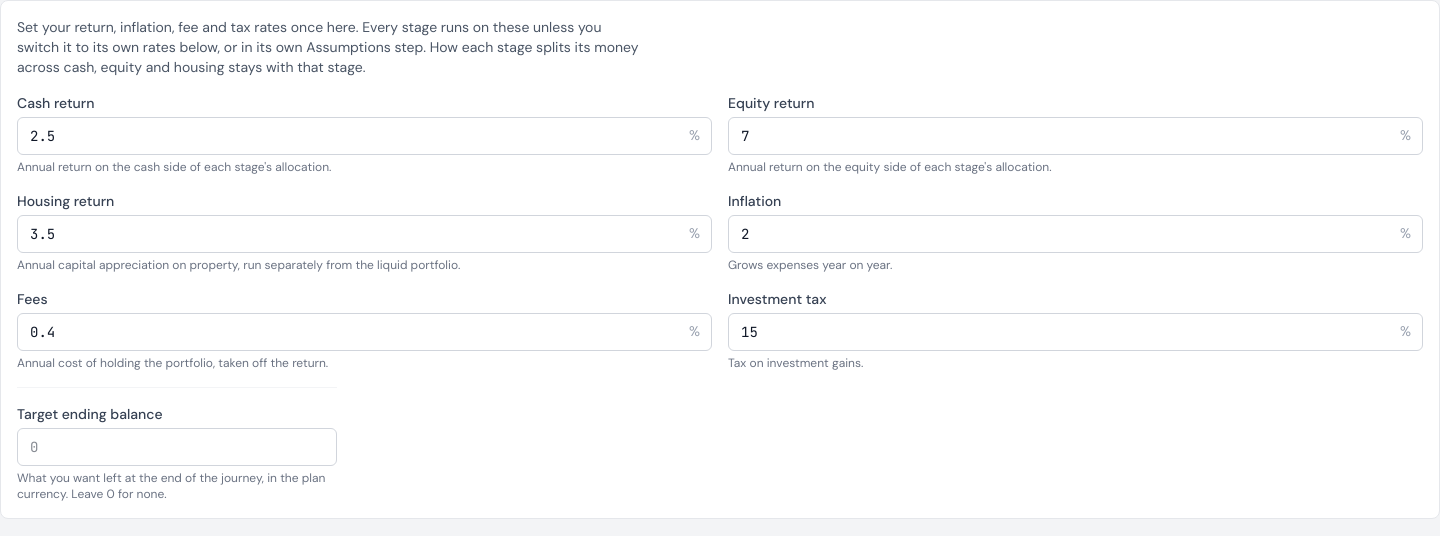
JourneyAssumptionsSection › target ending balance › shows an error and saves nothing for a negative amount
The width and height of the screenshot is (1440, 536).
In the number field labelled "Target ending balance": (177, 447) left=17, top=428, right=337, bottom=466, type "-5"
Wait 1000 ms
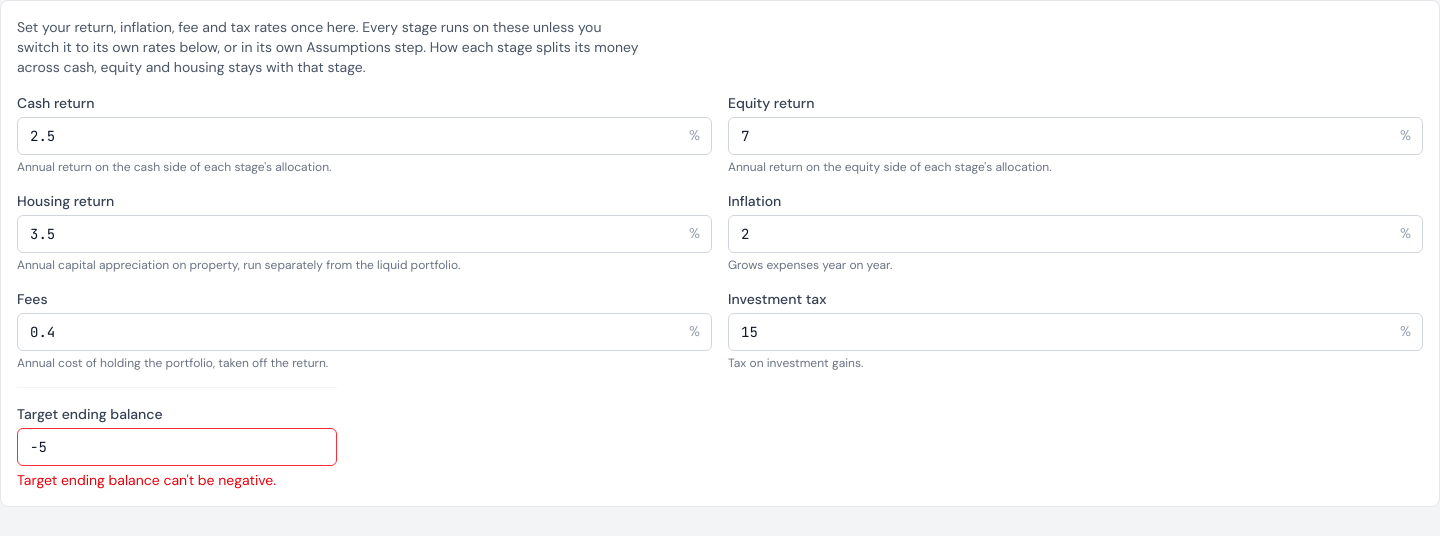
Now the text "Target ending balance can't be negative." is shown, box left=17, top=471, right=276, bottom=489
